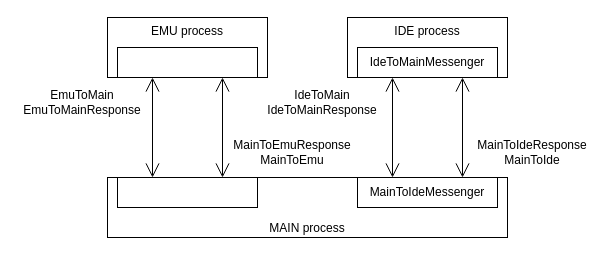
This 614x255 diagram has some shape labels left out. Here are the shapes that lost their labels. From the top down, the centre of each, then its label:
At point (187, 62): "EmuToMainMessenger".
At point (187, 192): "MainToEmuMessenger".
